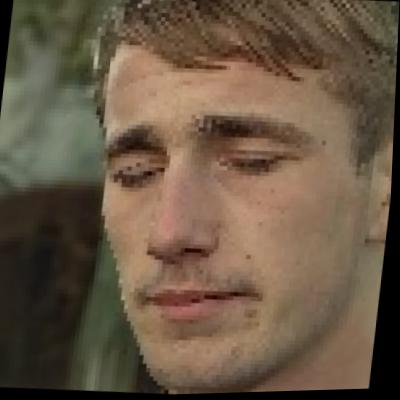sad: (74, 18, 365, 391)
